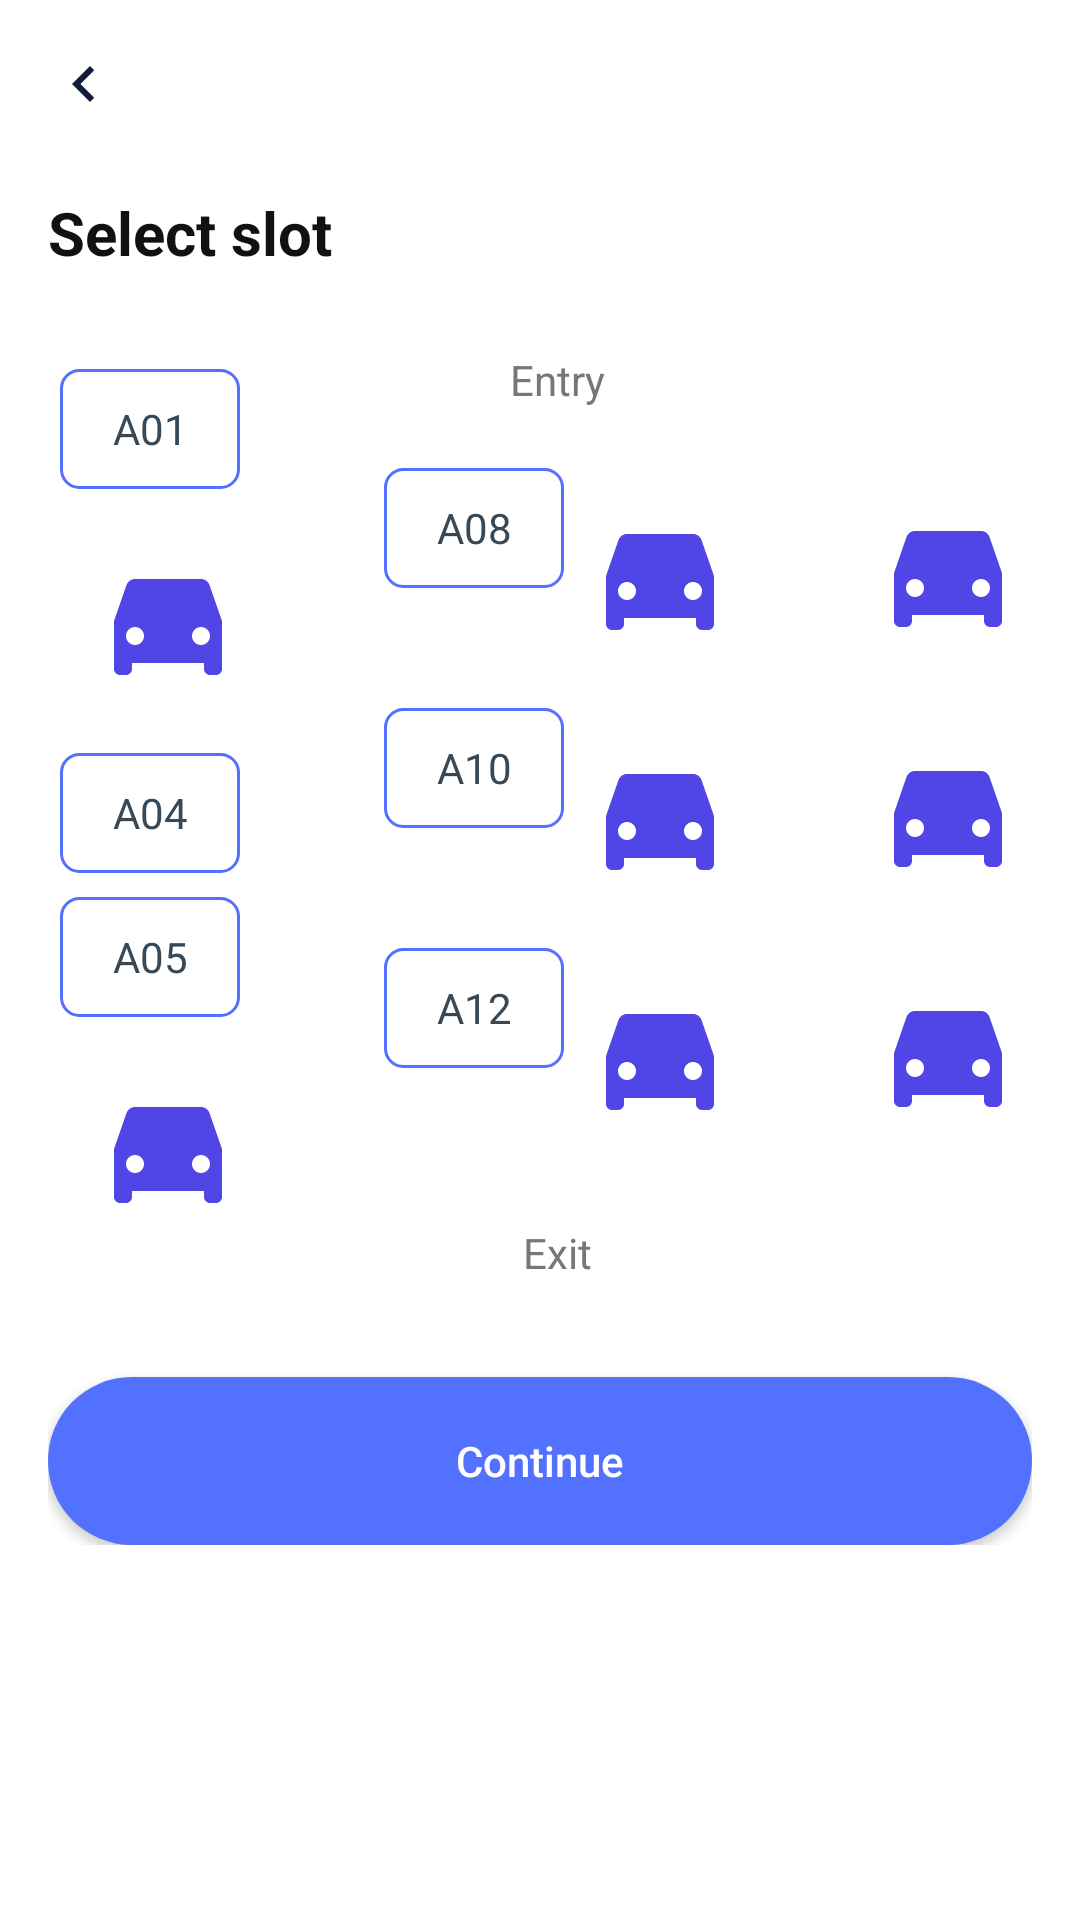

Icons on this 1080px x 1920px Android screen, each with the point to tap as point (x, y):
back: point (83, 84)
car: point (948, 579), point (660, 582), point (168, 627), point (948, 819), point (660, 822), point (948, 1059), point (660, 1062), point (168, 1155)
